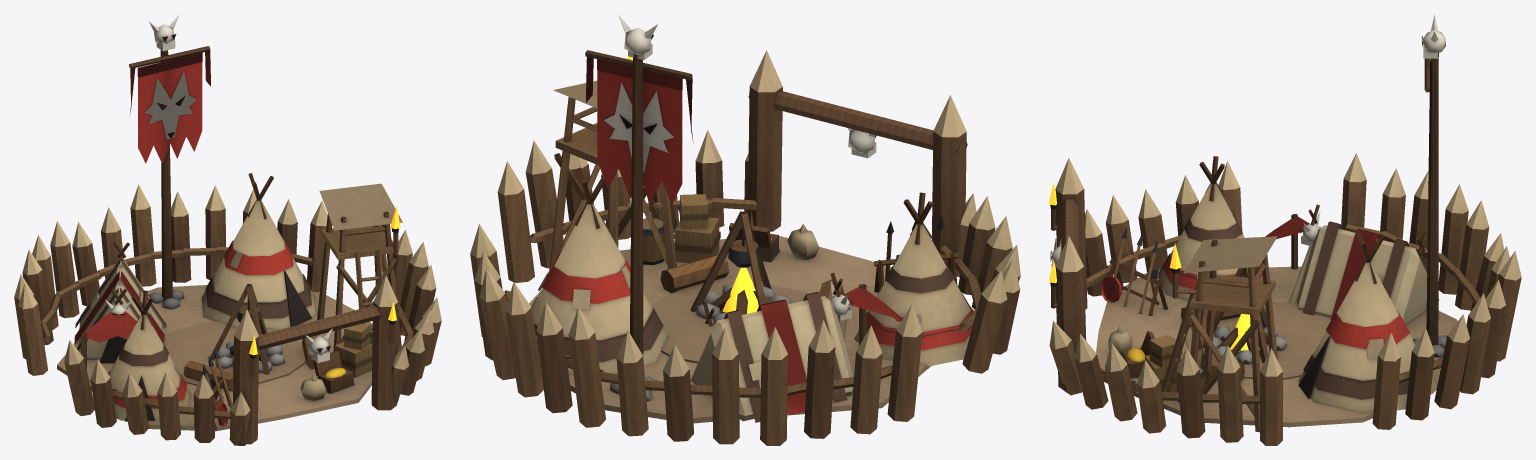
File: raider_camp.glb
The picture shows the model from 3 angles, left to right: view 1: azimuth 30°, elevation 25°; view 2: azimuth 150°, elevation 25°; view 3: azimuth 270°, elevation 25°; orthographic projection. The views are drawn at different scales.
Visible parts, largest first — view 1: raider_camp; view 2: raider_camp; view 3: raider_camp.
Boxes of the visible parts, x1,y1,x2,y2 form: raider_camp: (14,14,441,445); raider_camp: (470,14,1020,445); raider_camp: (1049,14,1521,445).
Bounding box in the file's own units: 1.49 × 1.14 × 1.47.
Materials: 3 (1 with a texture image).
